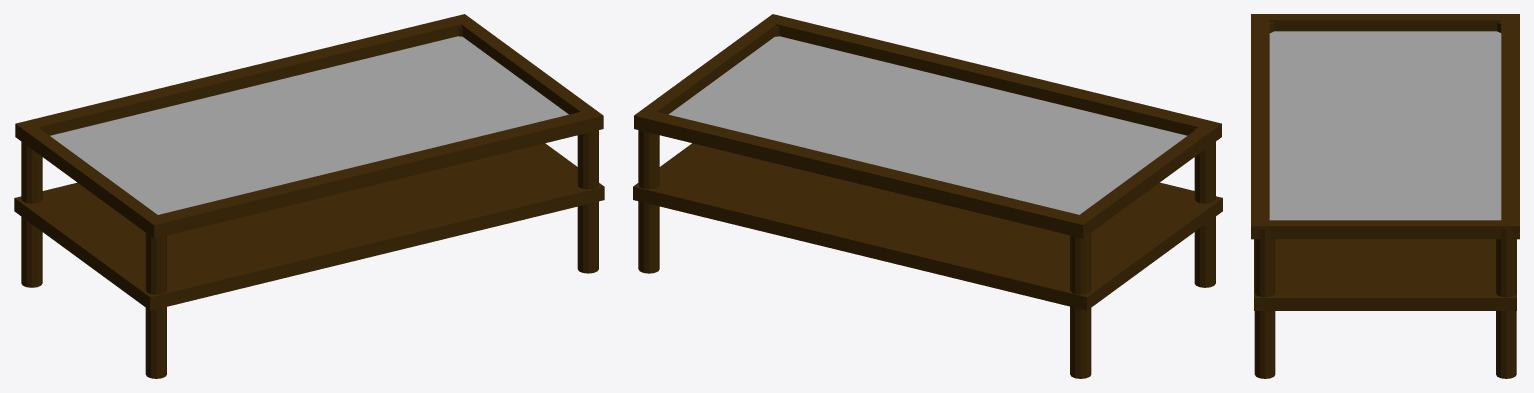
The model's file is coffeeTable.fbx.
The picture shows the model from 3 angles, left to right: view 1: azimuth 30°, elevation 25°; view 2: azimuth 150°, elevation 25°; view 3: azimuth 270°, elevation 25°; orthographic projection. The views are drawn at different scales.
Visible parts, largest first — view 1: Coffee_Table; view 2: Coffee_Table; view 3: Coffee_Table.
Boxes of the visible parts, x1,y1,x2,y2 form: Coffee_Table: (14,14,604,378); Coffee_Table: (633,14,1222,378); Coffee_Table: (1251,14,1519,378).
Bounding box in the file's own units: 6.33 × 2.09 × 3.35.
